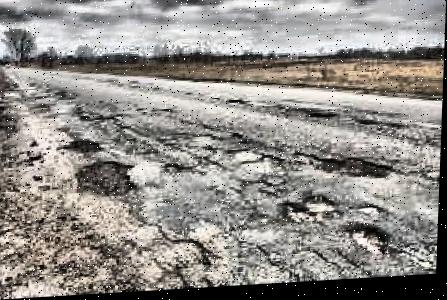pothole: (296, 147, 396, 186), (72, 159, 137, 199), (285, 197, 343, 228), (346, 226, 393, 263), (248, 155, 288, 183), (60, 137, 106, 156), (309, 111, 338, 125), (359, 118, 380, 135), (357, 208, 383, 219), (228, 100, 248, 109)
